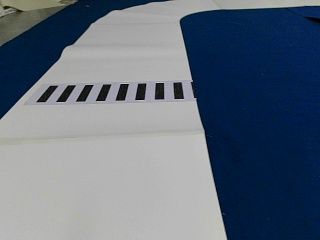crosswalk: (39, 82, 189, 103)
